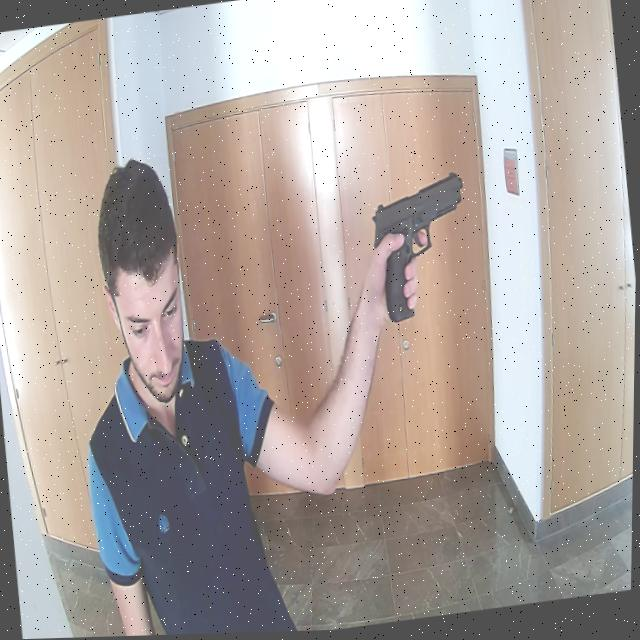pistol: (366, 170, 471, 269)
